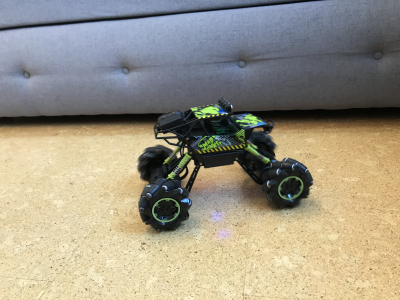remote control car: (129, 92, 316, 233)
